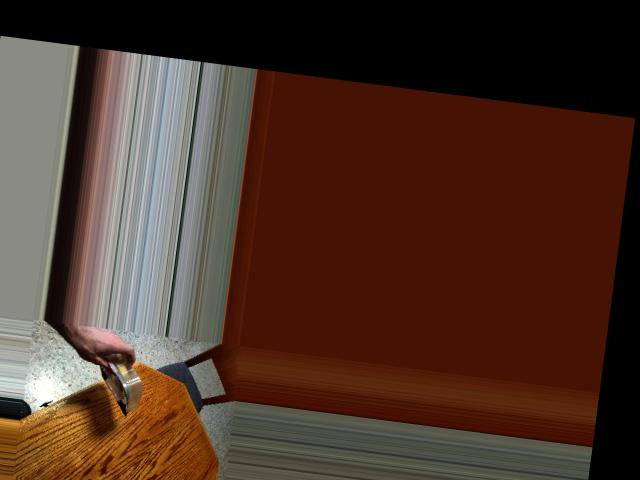cheese: (73, 341, 155, 413)
